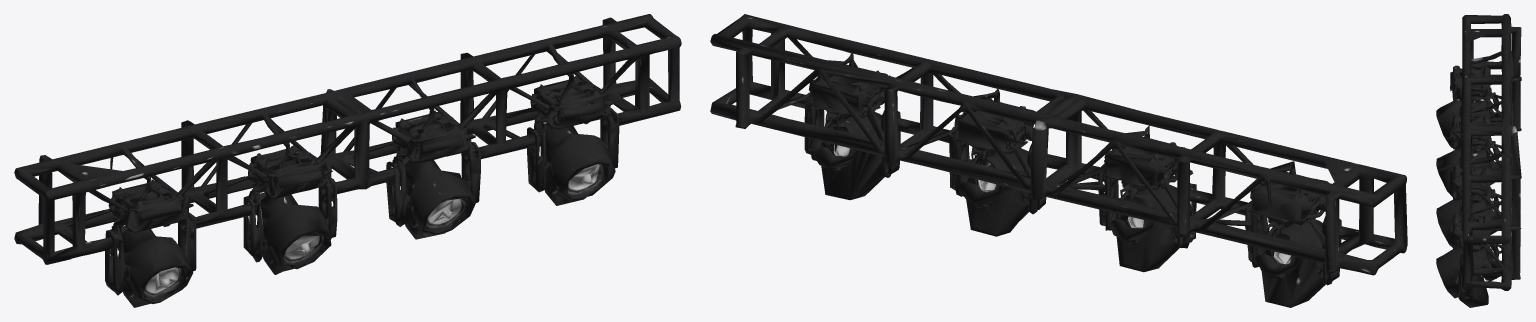
File: truss-1.glb
3 renders of one model, left to right at view 1: azimuth 30°, elevation 25°; view 2: azimuth 150°, elevation 25°; view 3: azimuth 270°, elevation 25°, orthographic. The views are drawn at different scales.
Parts seen in each view (by area): view 1: geometry_0; view 2: geometry_0; view 3: geometry_0.
Boxes of the visible parts, <box> form: geometry_0: <box>14,14,681,307</box>; geometry_0: <box>710,14,1407,307</box>; geometry_0: <box>1436,14,1521,307</box>.
Bounding box in the file's own units: 1 × 0.2182 × 0.1624.
1 material, 1 textured.
